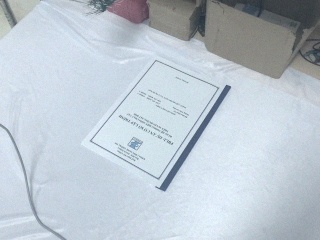box: (204, 1, 320, 80), (147, 1, 206, 42)
